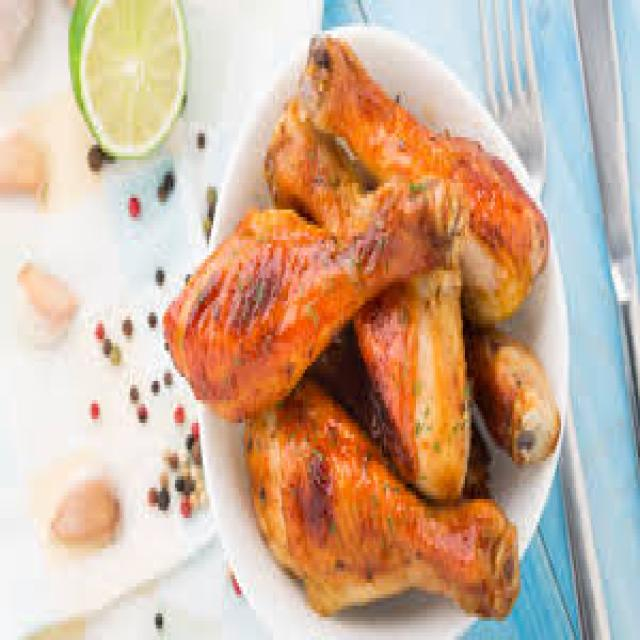Frango: (166, 46, 559, 617)
